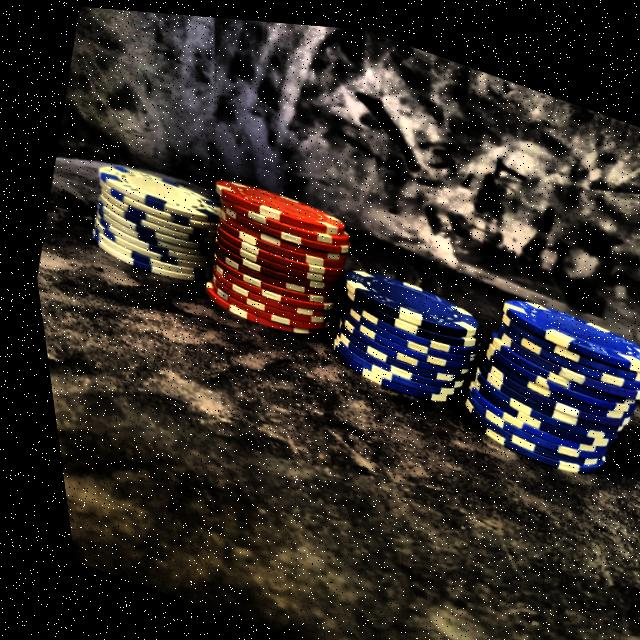Chip: (431, 260, 640, 504), (171, 144, 375, 360), (310, 239, 493, 419), (63, 137, 238, 306)
